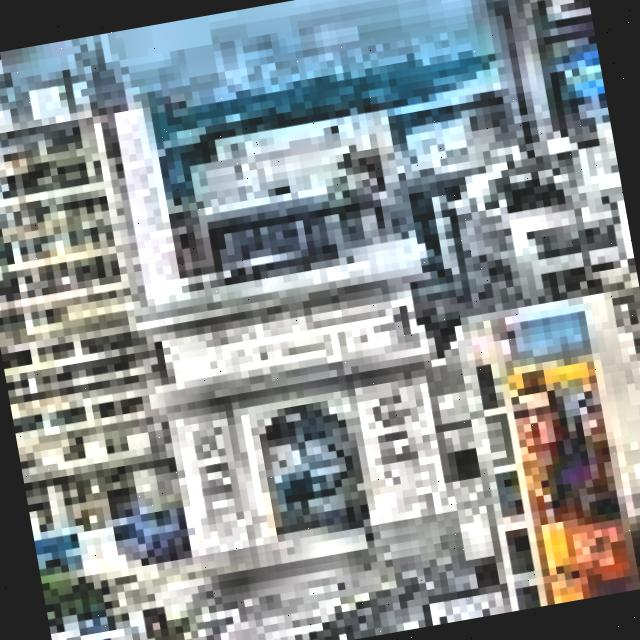triumphal arch: (133, 228, 474, 563)
